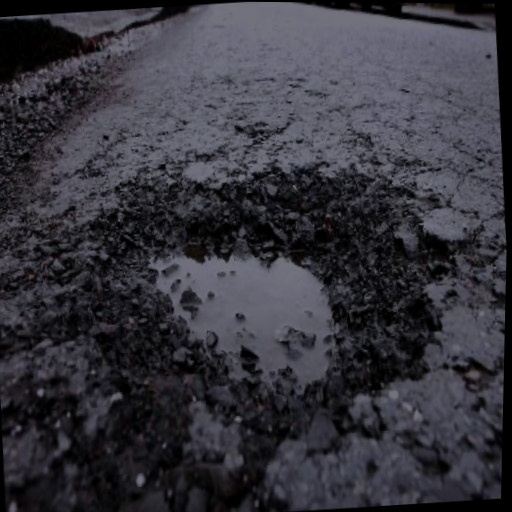pothole: (74, 148, 456, 441)
